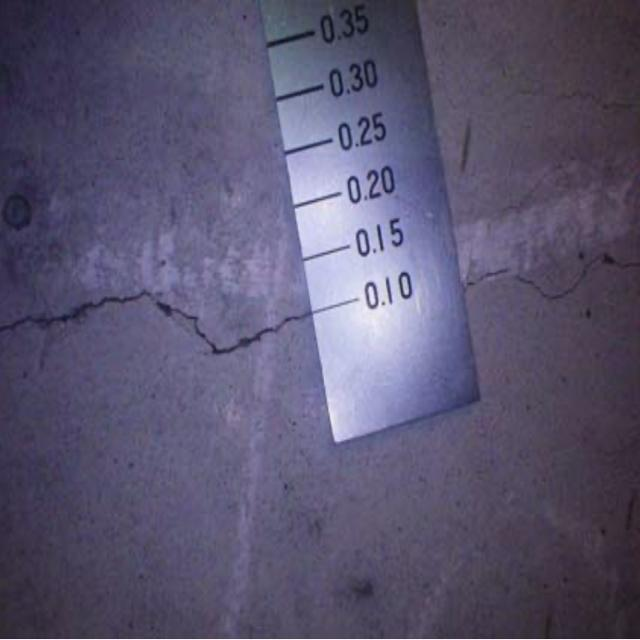crack: (10, 284, 310, 373), (467, 241, 640, 300)
